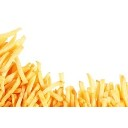frenchfries: (2, 28, 128, 108)
